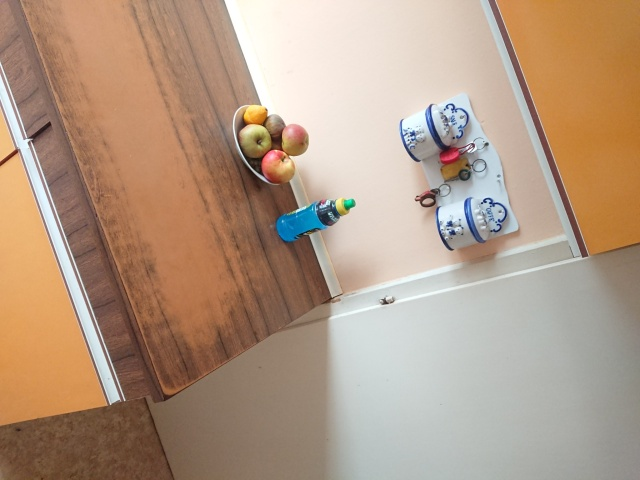Vindi Iso Sport Forest Strawberries 500mL: (274, 196, 357, 244)
